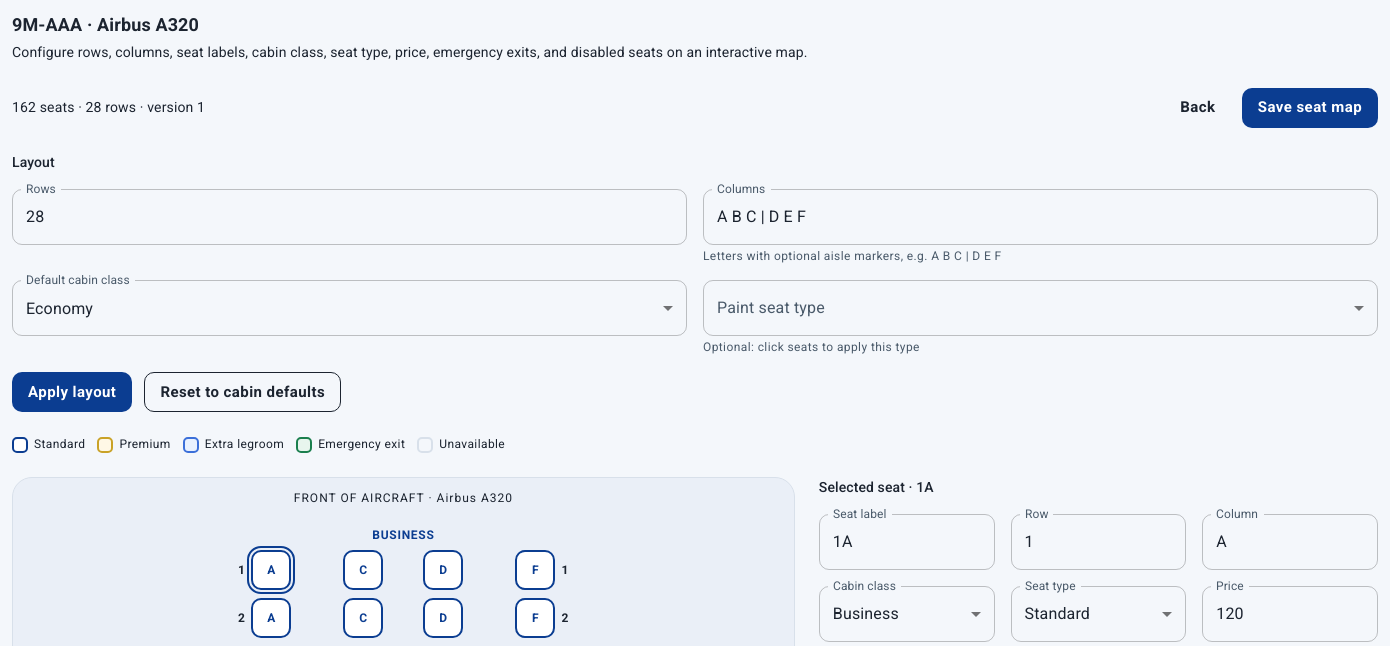
Test case: AdminAircraftSeatConfigView › shows a fallback save error message for non-Error failures
Click the button "Save seat map" at (1310, 108), box [1242,88,1378,128]
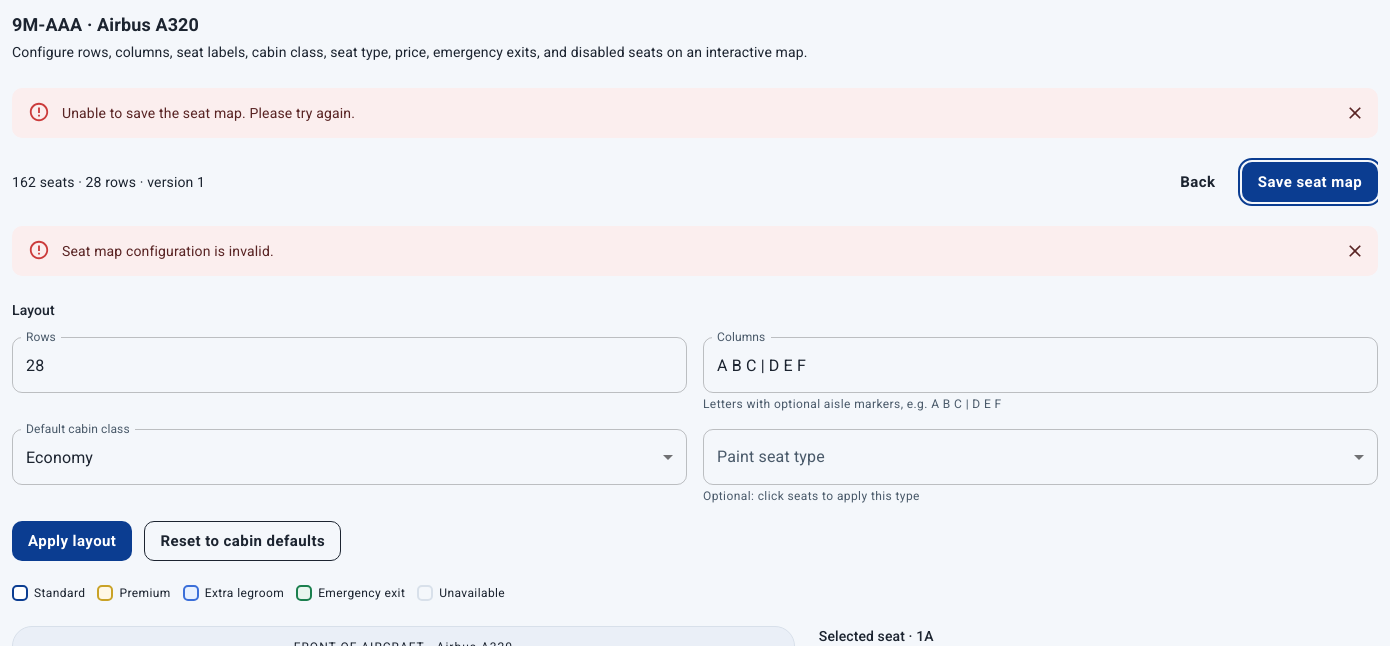
Check: the text "Unable to save the seat map. Please try again." is shown, box [62,105,355,121]
